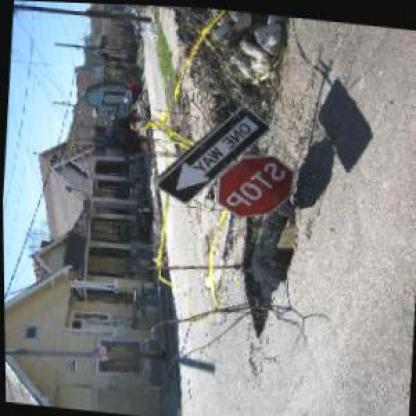pothole: (226, 184, 302, 342)
